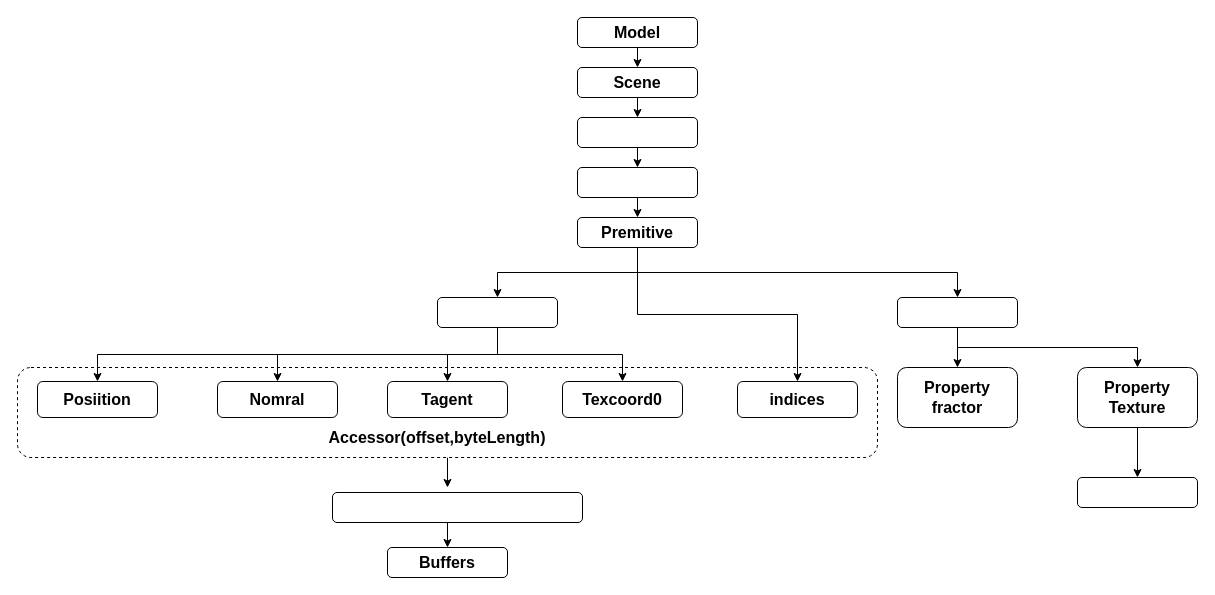
The diagram is 1215 pixels wide and 595 high, and some of its shapes have lost their labels. The centre of each missing label's shape, as x and y in pixels:
"Attrib" goes at (497,312).
"BufferViews(offset,byteLength)" goes at (457,507).
"Images" goes at (1137,492).
"Material" goes at (957,312).
"Mesh" goes at (637,182).
"Node" goes at (637,132).
